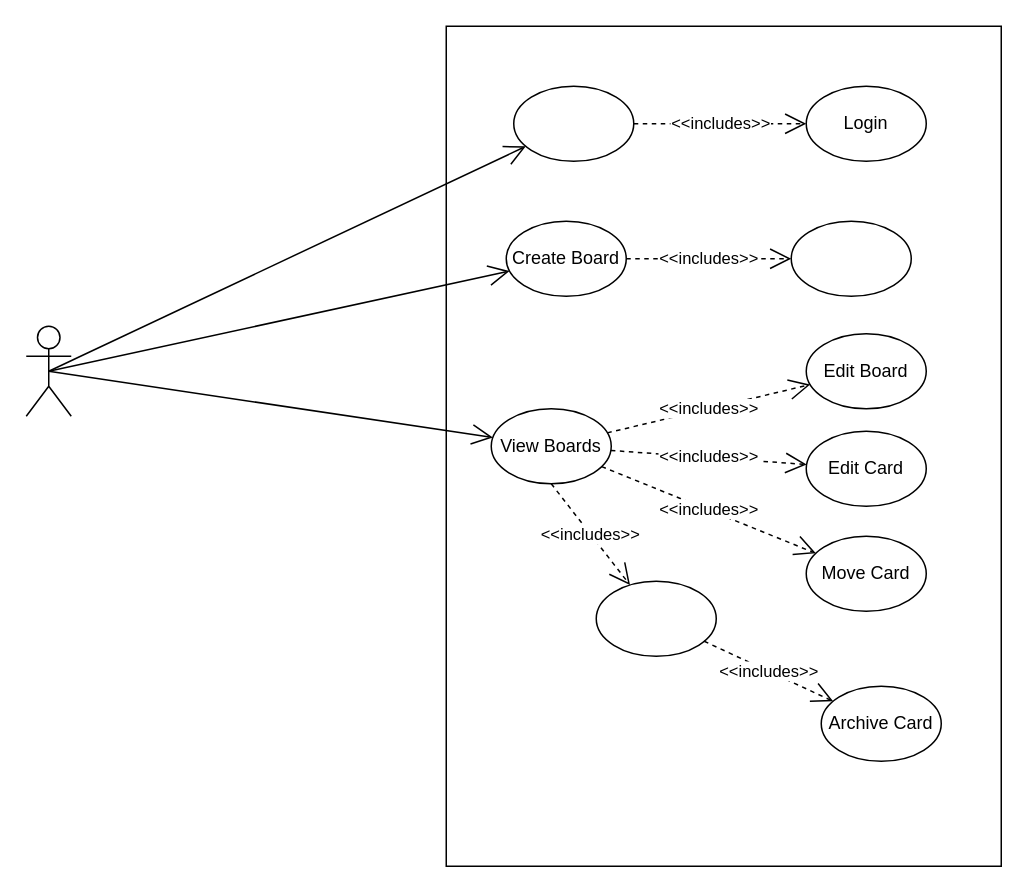
Some shapes in this 1028 by 893 pixel diagram are drawn without their labels. The shapes that lost their labels are listed below. From the top down, each one's box as (x1, y1, x2, y2) in pixels, then its label:
(512, 85, 634, 161): Register
(790, 220, 911, 296): Create card
(25, 325, 71, 416): User
(595, 580, 716, 656): Archive Board
